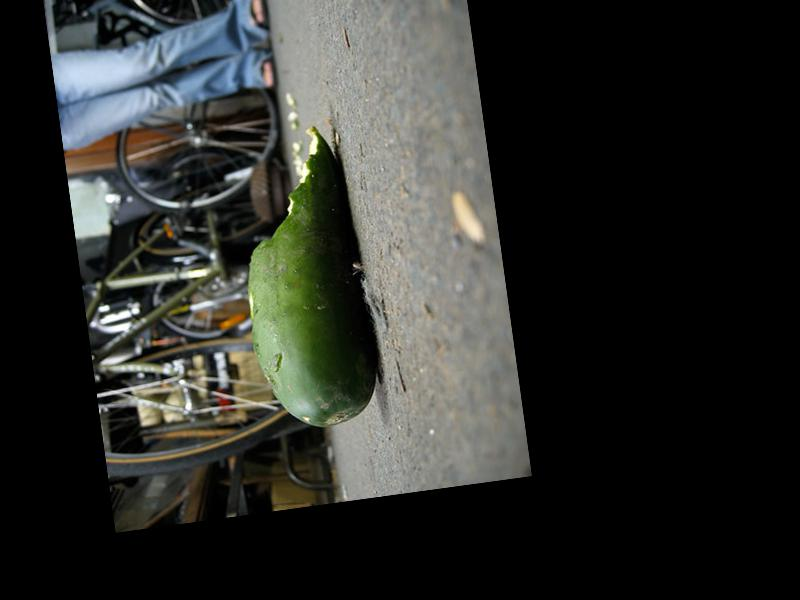Cucumber: (225, 118, 381, 433)
